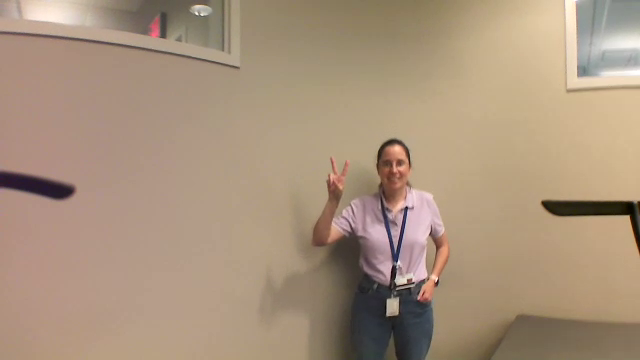peace: (317, 146, 354, 199)
